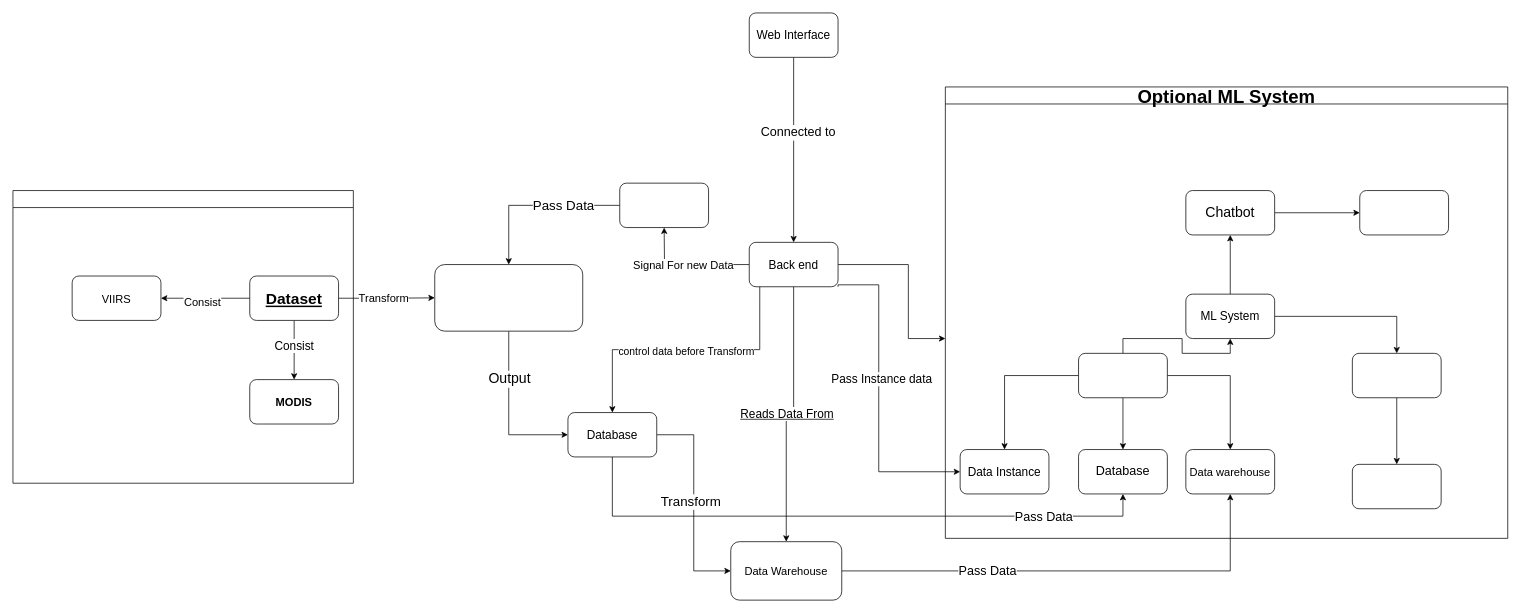
This 1521x613 diagram has some shape labels left out. Here are the shapes that lost their labels. From the top down, the box of each, then its label:
(619, 182, 709, 228): Data Scrapper
(1359, 190, 1449, 235): RAG
(434, 264, 583, 331): Harmonization
(12, 190, 353, 483): Starting Point
(1078, 353, 1167, 398): Data Reader
(1352, 353, 1441, 398): Feature Extraction
(1352, 464, 1441, 509): ML model
